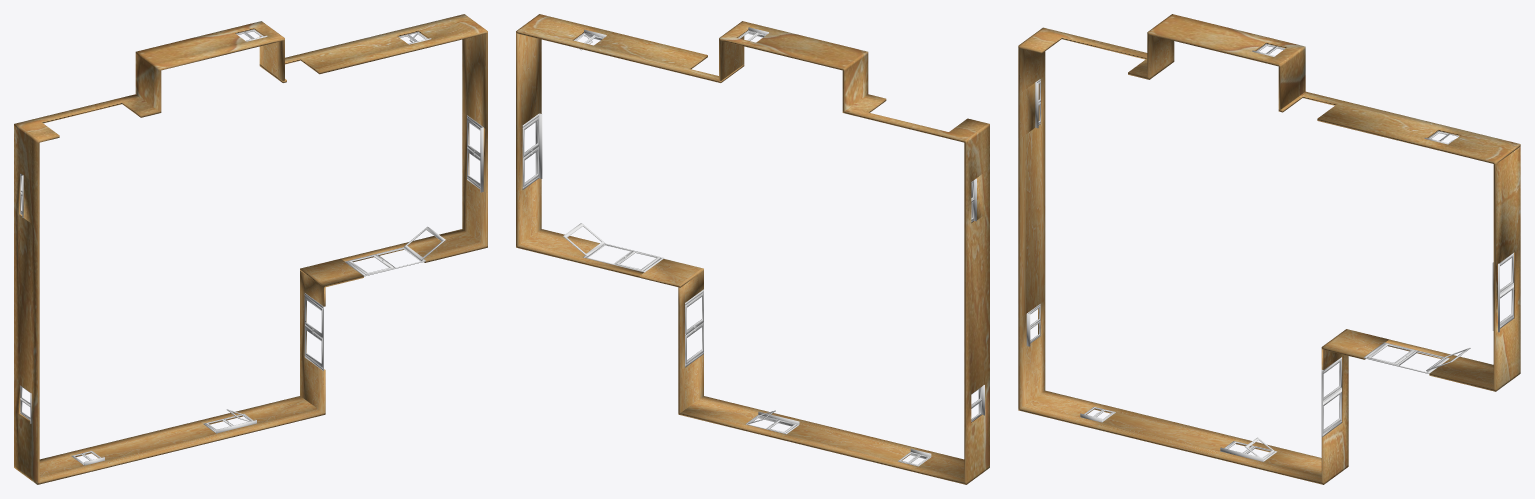
Rendered from wall_5_2_outside_base_total_tex_v4.fbx.
3 renders of one model, left to right at view 1: azimuth 30°, elevation 25°; view 2: azimuth 150°, elevation 25°; view 3: azimuth 330°, elevation 25°, orthographic. The views are drawn at different scales.
Visible parts, largest first — view 1: Cube; view 2: Cube; view 3: Cube.
Boxes of the visible parts, <box> form: Cube: <box>14,14,487,484</box>; Cube: <box>516,14,989,484</box>; Cube: <box>1018,14,1520,484</box>.
Bounding box in the file's own units: 0.1115 × 0.0915 × 0.0102.
